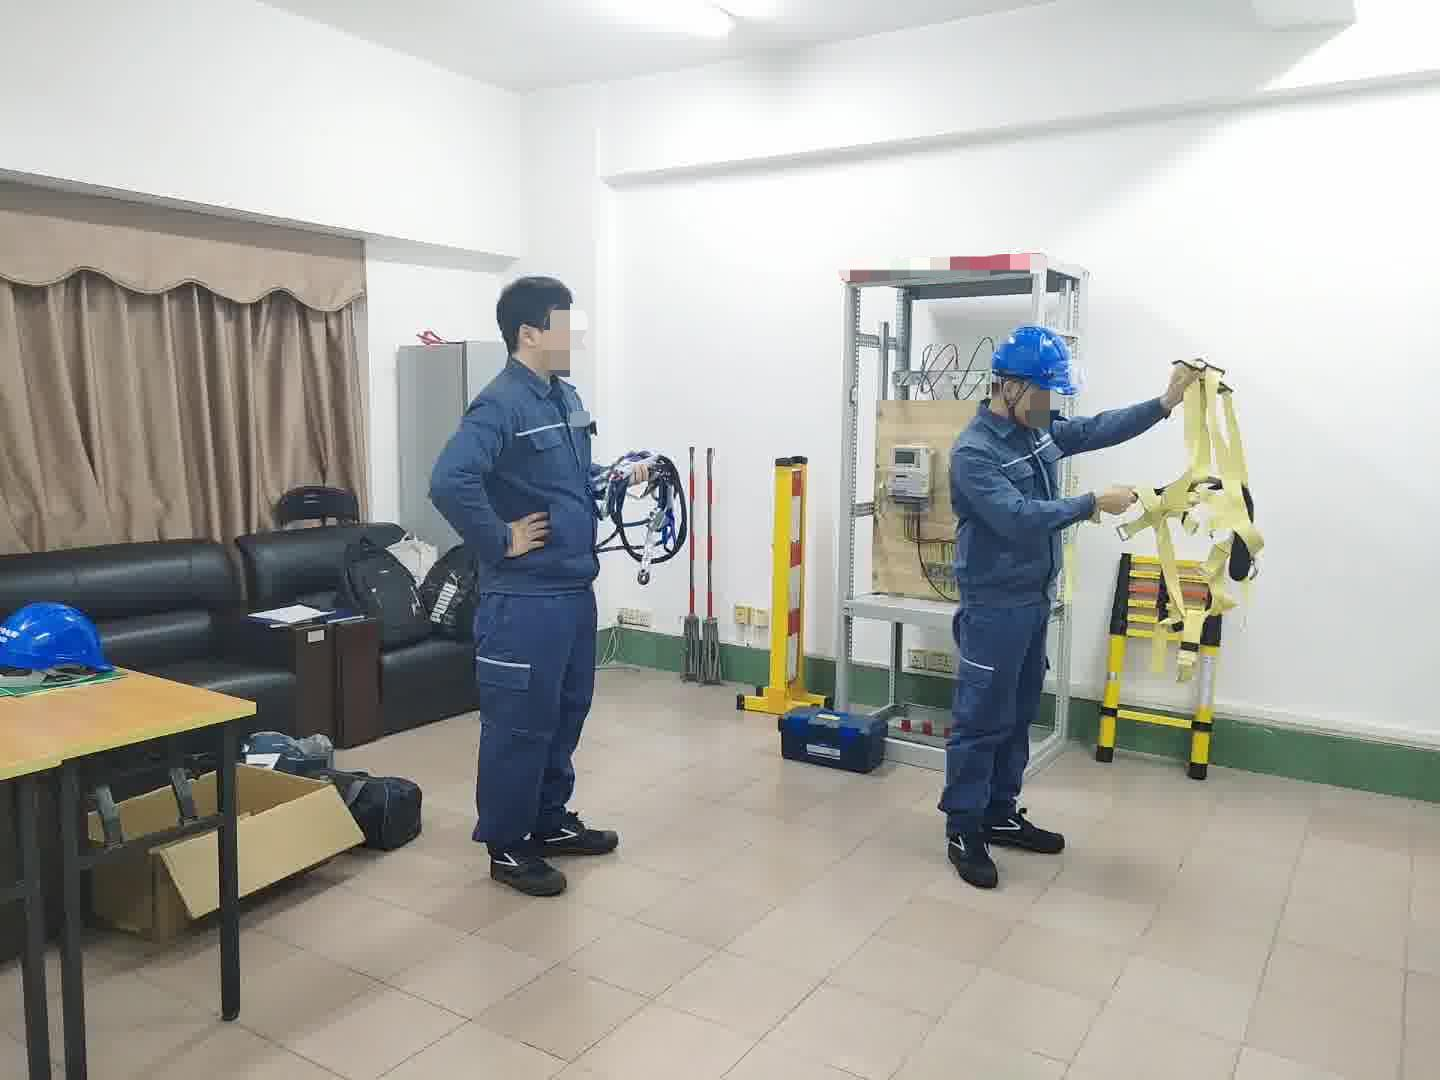halt: (991, 328, 1077, 427)
inear: (997, 376, 1034, 417)
noear: (514, 318, 553, 361)
unhalt: (495, 275, 587, 374)
